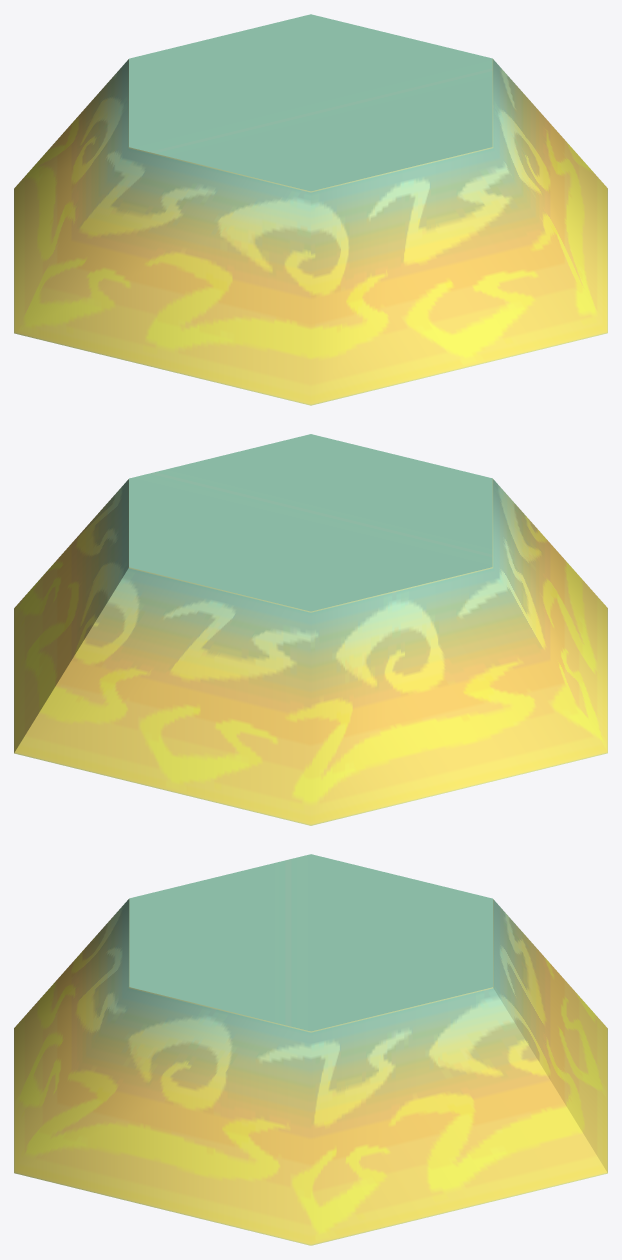
The picture shows the model from 3 angles, top to bottom: view 1: azimuth 30°, elevation 25°; view 2: azimuth 150°, elevation 25°; view 3: azimuth 270°, elevation 25°; orthographic projection.
Visible parts, largest first — view 1: DC_Skydome; view 2: DC_Skydome; view 3: DC_Skydome.
Part boxes in pixels (left/top/right/bottom): DC_Skydome: left=14, top=14, right=607, bottom=405; DC_Skydome: left=14, top=434, right=607, bottom=825; DC_Skydome: left=14, top=854, right=607, bottom=1245.
Size of the model in its own units: 60584 by 15432 by 52466.
Materials: 181 (179 with a texture image).
